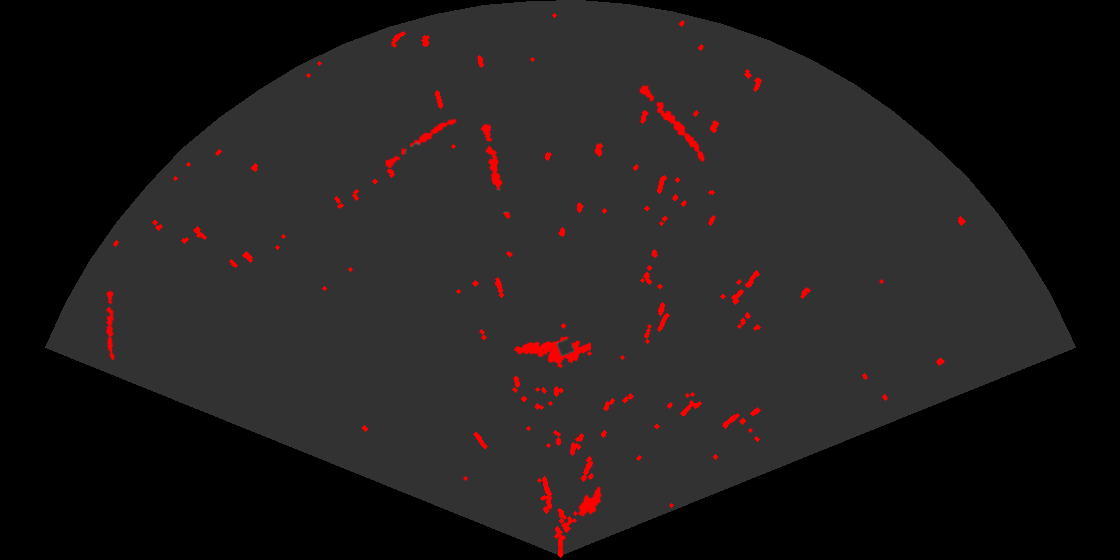AUV: (576, 485, 603, 519)
chain: (638, 84, 706, 163), (374, 117, 458, 175), (479, 121, 512, 220), (104, 289, 116, 360)
frogman: (513, 335, 591, 369)
